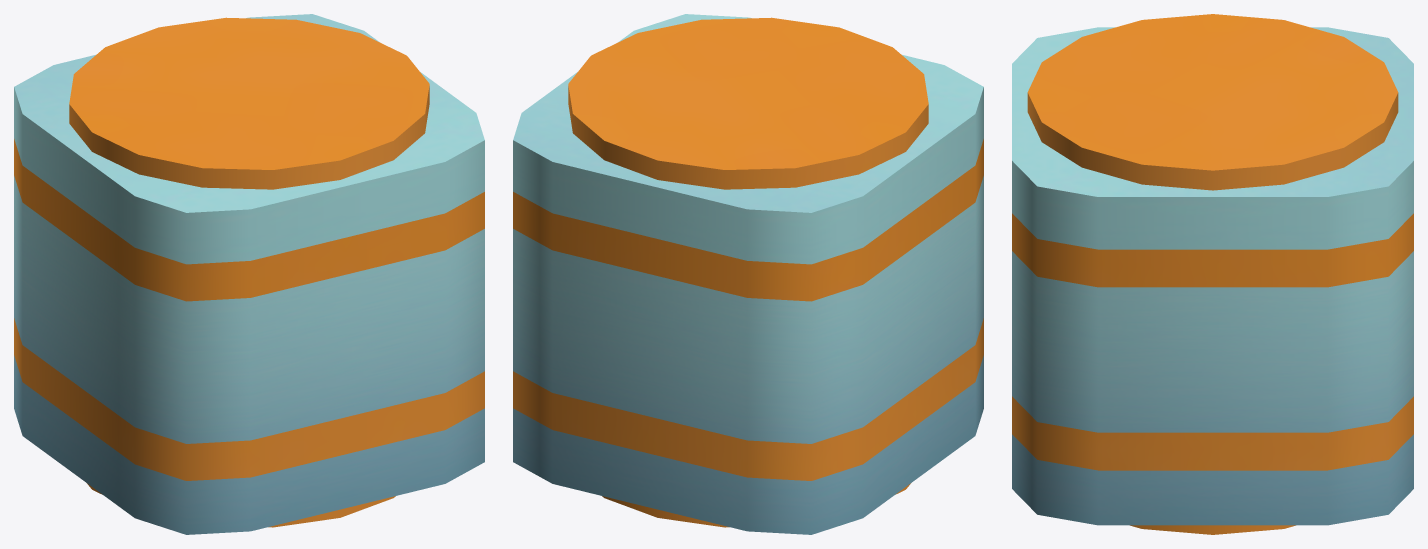
File: Fuel 2.fbx
3 renders of one model, left to right at view 1: azimuth 30°, elevation 25°; view 2: azimuth 150°, elevation 25°; view 3: azimuth 270°, elevation 25°, orthographic.
Visible parts, largest first — view 1: Block 1x1.001; view 2: Block 1x1.001; view 3: Block 1x1.001.
Part boxes in pixels (x1,y1,x2,y2): Block 1x1.001: (14,14,484,534); Block 1x1.001: (513,14,983,534); Block 1x1.001: (1012,14,1413,534).
Size of the model in its own units: 100 by 100 by 100.
